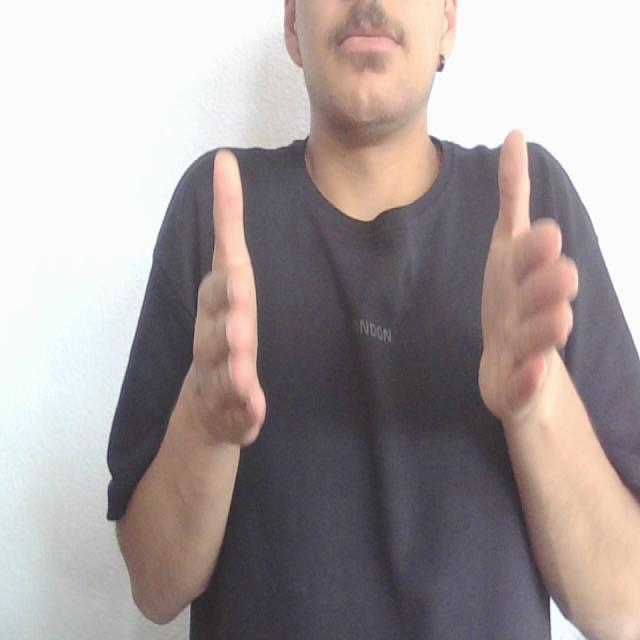Nasil: (185, 117, 575, 450)
